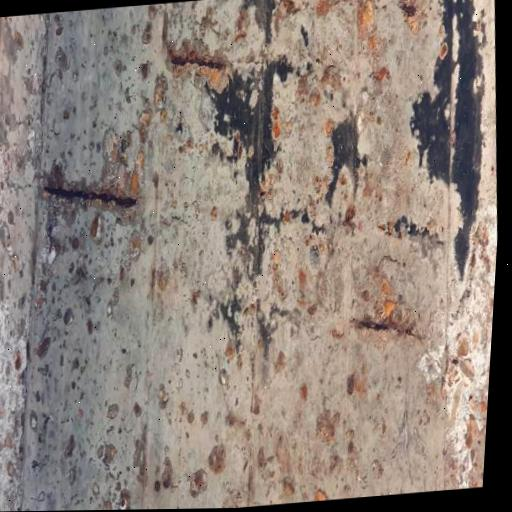exposed_rebar: (46, 187, 136, 208), (169, 49, 224, 69), (357, 321, 388, 331)
